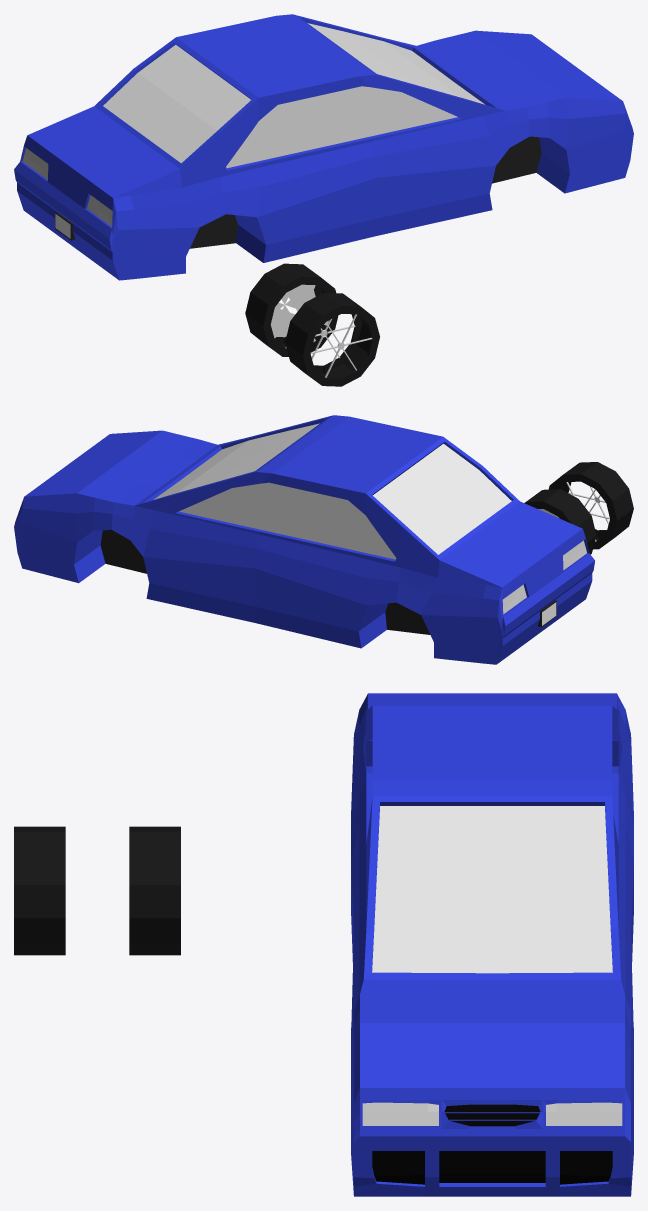
File: subaru.fbx
3 renders of one model, top to bottom at view 1: azimuth 30°, elevation 25°; view 2: azimuth 150°, elevation 25°; view 3: azimuth 270°, elevation 25°, orthographic. The views are drawn at different scales.
Parts seen in each view (by area): view 1: ebarik huezza, amfetamin, geri4; view 2: ebarik huezza, amfetamin, geri4; view 3: ebarik huezza, amfetamin, geri4.
Part boxes in pixels (x1,y1,x2,y2): ebarik huezza: (14, 14, 633, 280); amfetamin: (285, 292, 379, 386); geri4: (245, 263, 338, 356); ebarik huezza: (14, 415, 594, 664); amfetamin: (548, 462, 633, 549); geri4: (524, 489, 596, 554); ebarik huezza: (351, 693, 633, 1196); amfetamin: (14, 826, 65, 955); geri4: (129, 826, 180, 955).
Bounding box in the file's own units: 269 × 130 × 380.
